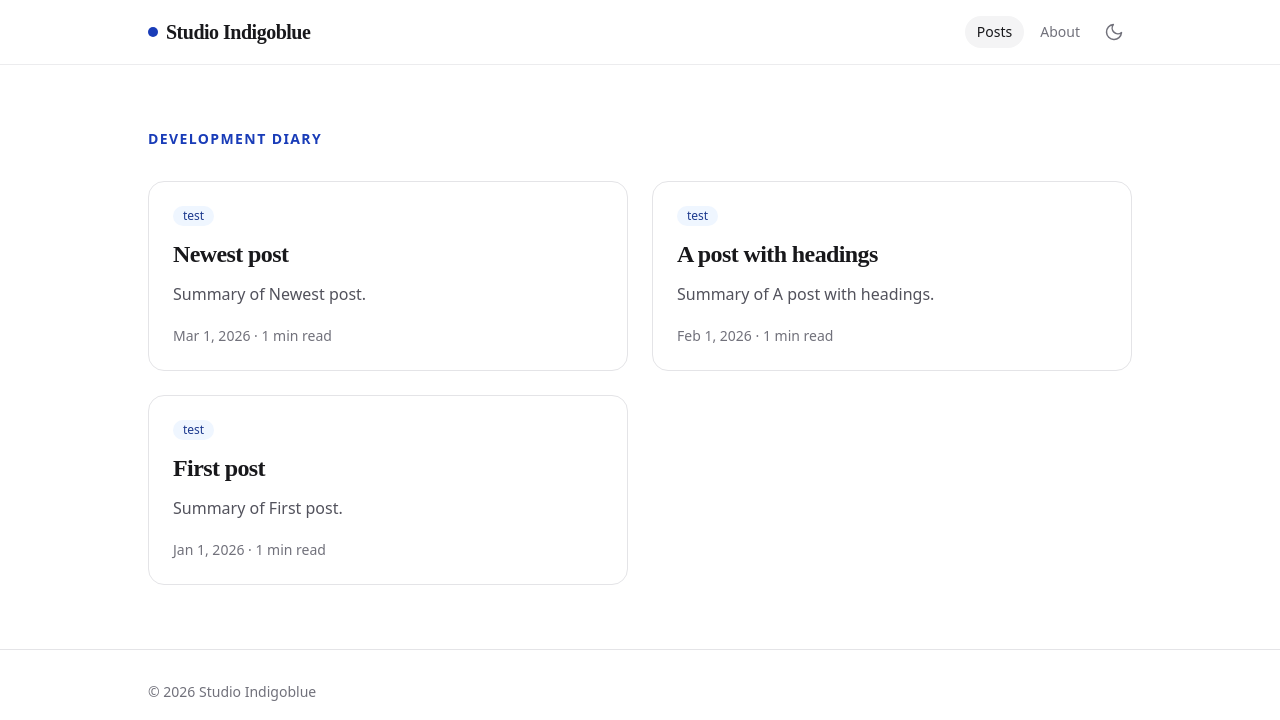
header navigation goes to the About page
Step 1. Click the link "About" → (1060, 32), box [1040,22,1080,41]
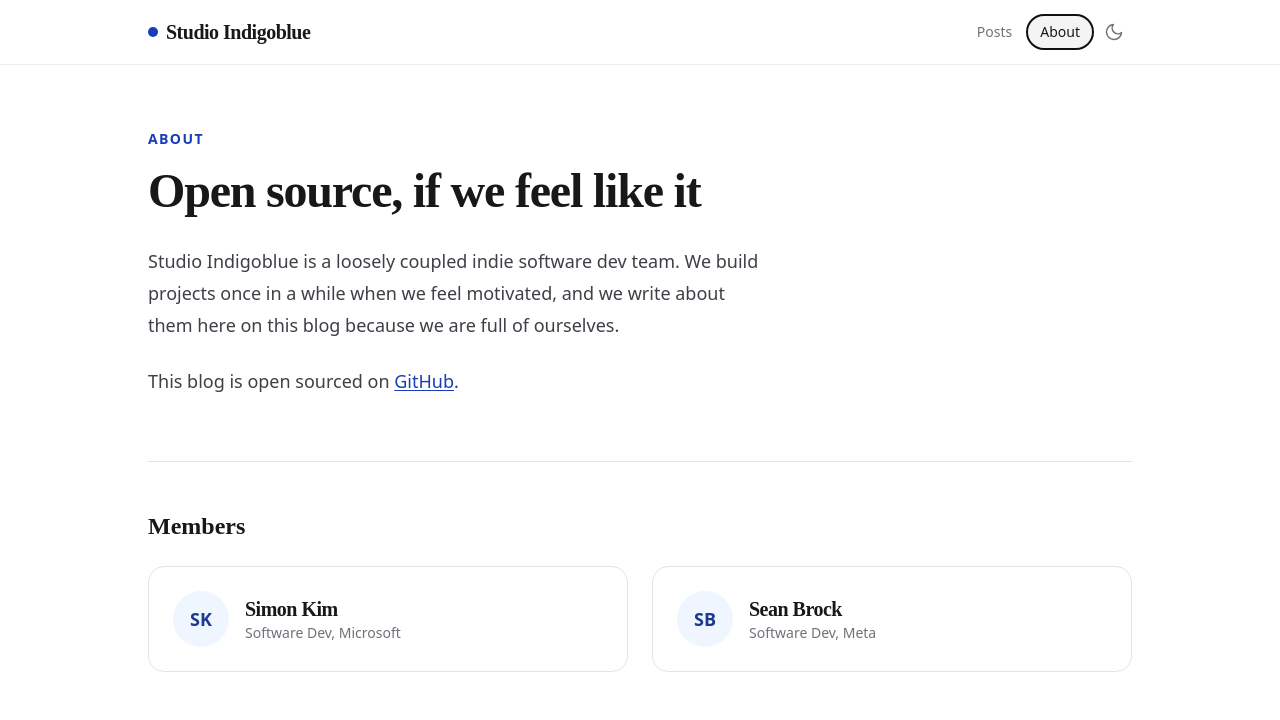
Result: the heading "Open source, if we feel like it" is shown at [148,161,770,221]
